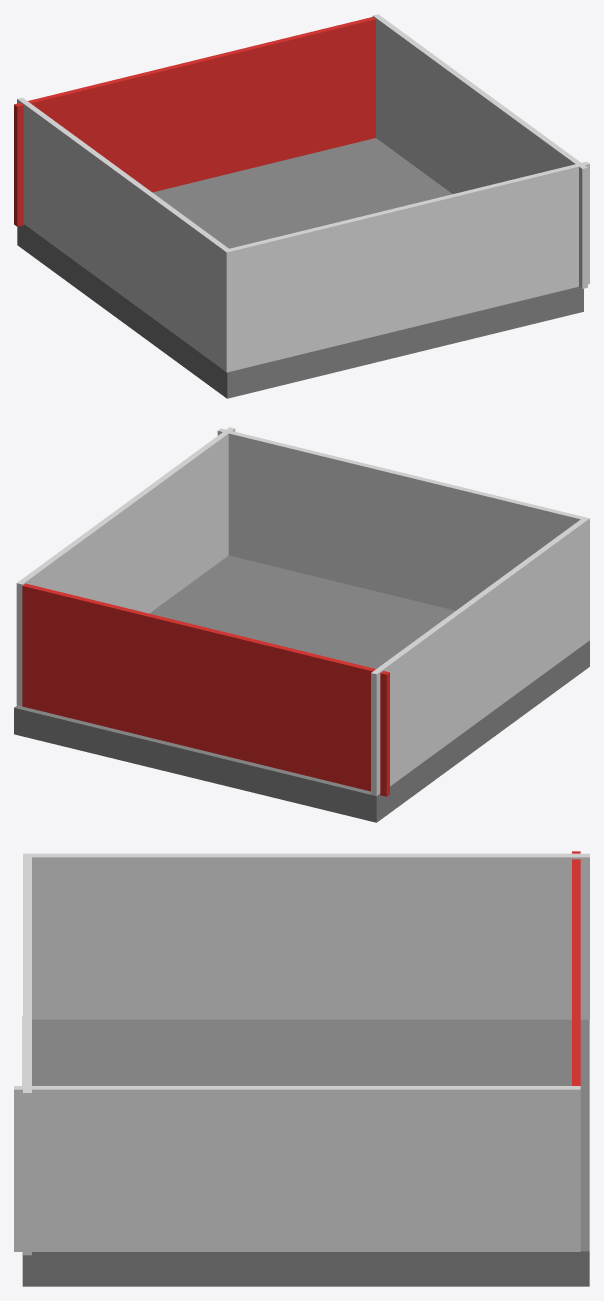
File: spawn.glb
3 renders of one model, top to bottom at view 1: azimuth 30°, elevation 25°; view 2: azimuth 150°, elevation 25°; view 3: azimuth 270°, elevation 25°, orthographic. The views are drawn at different scales.
Parts seen in each view (by area): view 1: Cube.002, Cube.004, Cube, Cube.001, Cube.003; view 2: Cube.004, Cube.002, Cube, Cube.001, Cube.003; view 3: Cube.003, Cube.001, Cube, Cube.002, Cube.004.
Part boxes in pixels (left/top/right/bottom): Cube.002: left=223, top=161, right=589, bottom=372; Cube.004: left=14, top=17, right=375, bottom=226; Cube: left=17, top=138, right=583, bottom=398; Cube.001: left=17, top=97, right=231, bottom=369; Cube.003: left=372, top=14, right=587, bottom=288; Cube.004: left=22, top=583, right=389, bottom=796; Cube.002: left=217, top=428, right=589, bottom=642; Cube: left=14, top=555, right=589, bottom=822; Cube.001: left=371, top=517, right=589, bottom=796; Cube.003: left=16, top=427, right=235, bottom=706; Cube.003: left=14, top=1086, right=580, bottom=1251; Cube.001: left=23, top=853, right=589, bottom=1019; Cube: left=22, top=1016, right=589, bottom=1286; Cube.002: left=23, top=854, right=31, bottom=1255; Cube.004: left=572, top=851, right=580, bottom=1085.
Size of the model in its own units: 17.67 by 6.68 by 17.64.
